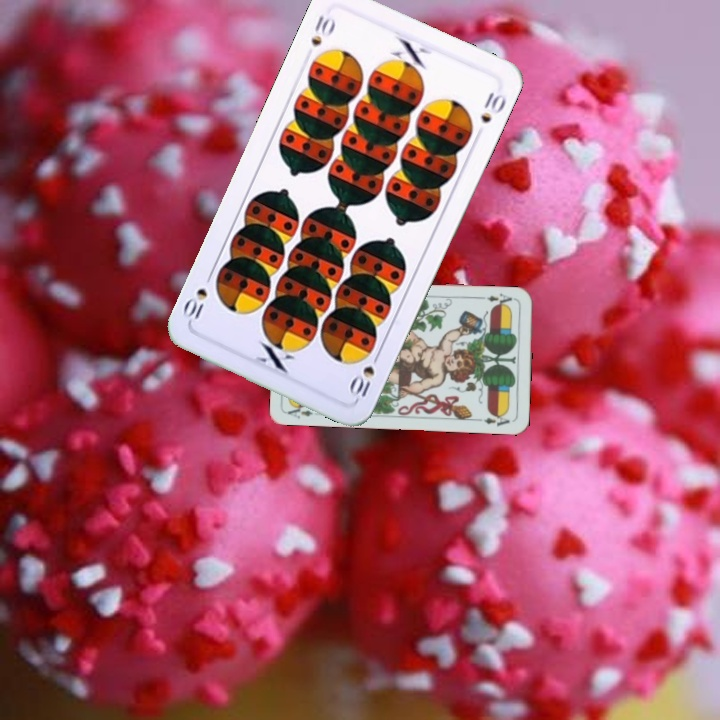EA: (478, 290, 514, 309), (284, 401, 315, 421)
S10: (346, 347, 384, 403), (307, 10, 338, 50)
